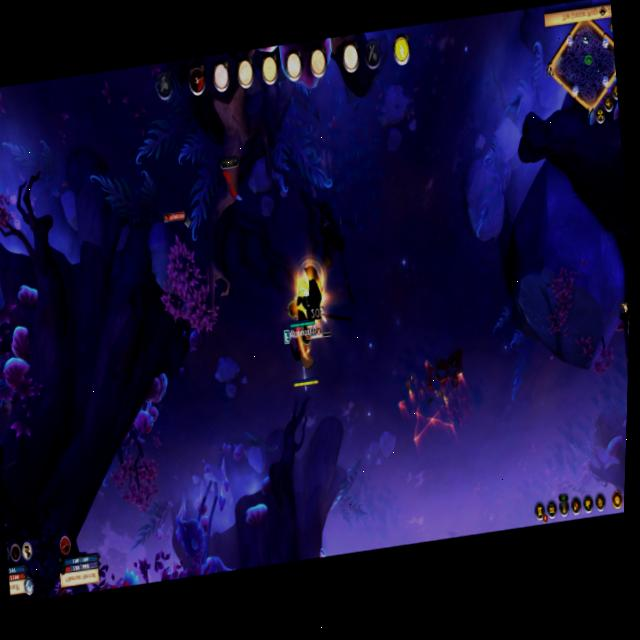ore: (294, 253, 338, 344)
red: (276, 270, 322, 347), (283, 310, 322, 392)
